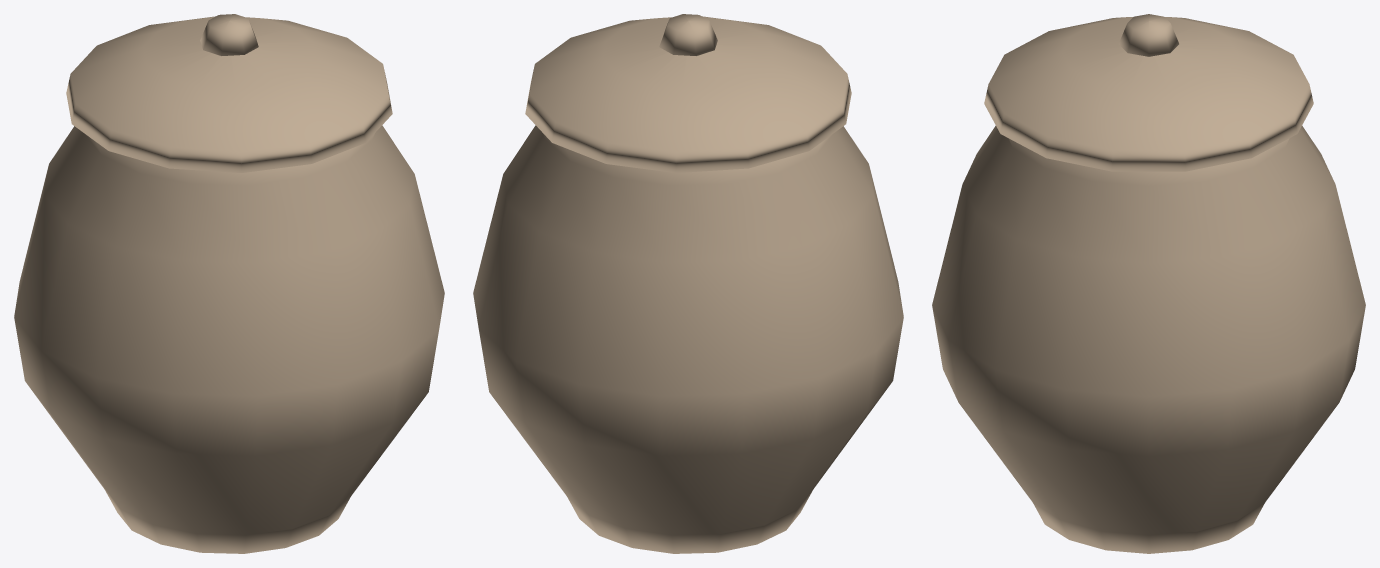
File: korean-hanok-village-and-street-onggi-jar-large-57747607__38060.glb
The picture shows the model from 3 angles, left to right: view 1: azimuth 30°, elevation 25°; view 2: azimuth 150°, elevation 25°; view 3: azimuth 270°, elevation 25°; orthographic projection.
Parts seen in each view (by area): view 1: onggi-jar-large, jar-lid; view 2: onggi-jar-large, jar-lid; view 3: onggi-jar-large, jar-lid.
Part boxes in pixels (bbox=[...]): onggi-jar-large: bbox=[14, 125, 444, 553]; jar-lid: bbox=[66, 14, 392, 172]; onggi-jar-large: bbox=[473, 125, 903, 553]; jar-lid: bbox=[525, 14, 851, 172]; onggi-jar-large: bbox=[932, 125, 1365, 553]; jar-lid: bbox=[984, 14, 1313, 171].
Size of the model in its own units: 0.8401 by 1.04 by 0.8401.
